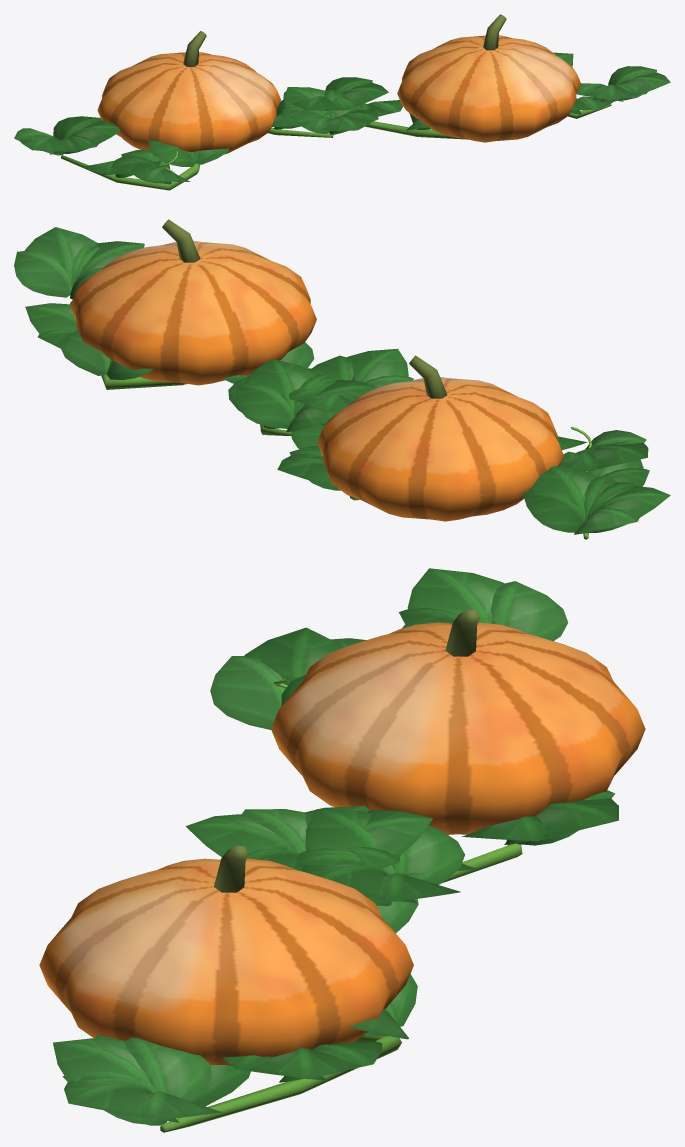
Rendered from crop_pumpkin.glb.
3 renders of one model, top to bottom at view 1: azimuth 30°, elevation 25°; view 2: azimuth 150°, elevation 25°; view 3: azimuth 270°, elevation 25°, orthographic. The views are drawn at different scales.
Parts seen in each view (by area): view 1: P1_fruit0, P0_fruit0, P0_leaf, P1_leaf, P0_stem, P1_stem; view 2: P0_fruit0, P1_fruit0, P0_leaf, P1_leaf, P1_stem; view 3: P0_fruit0, P1_fruit0, P1_leaf, P0_leaf, P1_stem, P0_stem.
Boxes of the visible parts, bbox=[...] form: P1_fruit0: bbox=[397, 14, 580, 142]; P0_fruit0: bbox=[97, 31, 280, 154]; P0_leaf: bbox=[14, 87, 378, 184]; P1_leaf: bbox=[283, 52, 670, 130]; P0_stem: bbox=[61, 127, 333, 190]; P1_stem: bbox=[365, 104, 611, 139]; P0_fruit0: bbox=[317, 355, 563, 521]; P1_fruit0: bbox=[70, 219, 316, 385]; P0_leaf: bbox=[277, 348, 670, 534]; P1_leaf: bbox=[14, 227, 377, 431]; P1_stem: bbox=[70, 301, 291, 436]; P0_fruit0: bbox=[271, 609, 645, 834]; P1_fruit0: bbox=[39, 845, 413, 1065]; P1_leaf: bbox=[53, 809, 465, 1125]; P0_leaf: bbox=[185, 568, 618, 875]; P1_stem: bbox=[160, 1034, 401, 1132]; P0_stem: bbox=[443, 839, 522, 882].
Size of the model in its own units: 1.88 by 0.3564 by 0.89.
1 material, 1 textured.
